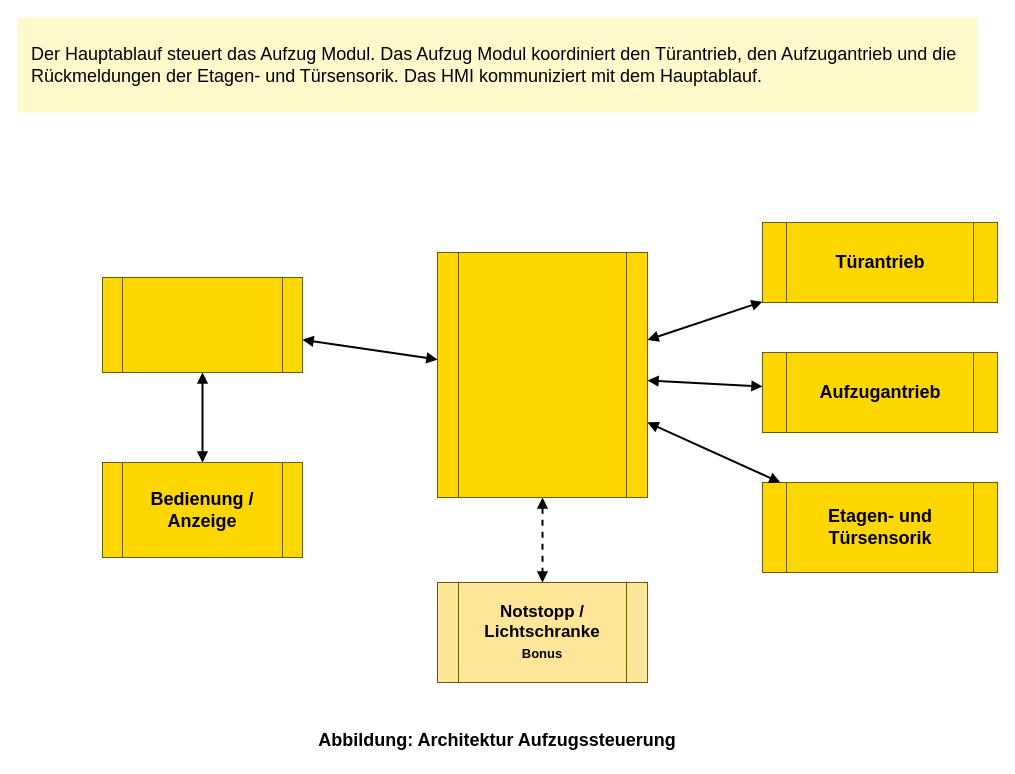
Some shapes in this 1015 by 774 pixel diagram are drawn without their labels. The shapes that lost their labels are listed below. From the top down, each one's centre as x and y in pixels, then its label:
the point at 202,324: Hauptablauf
the point at 542,375: Aufzug Modul
